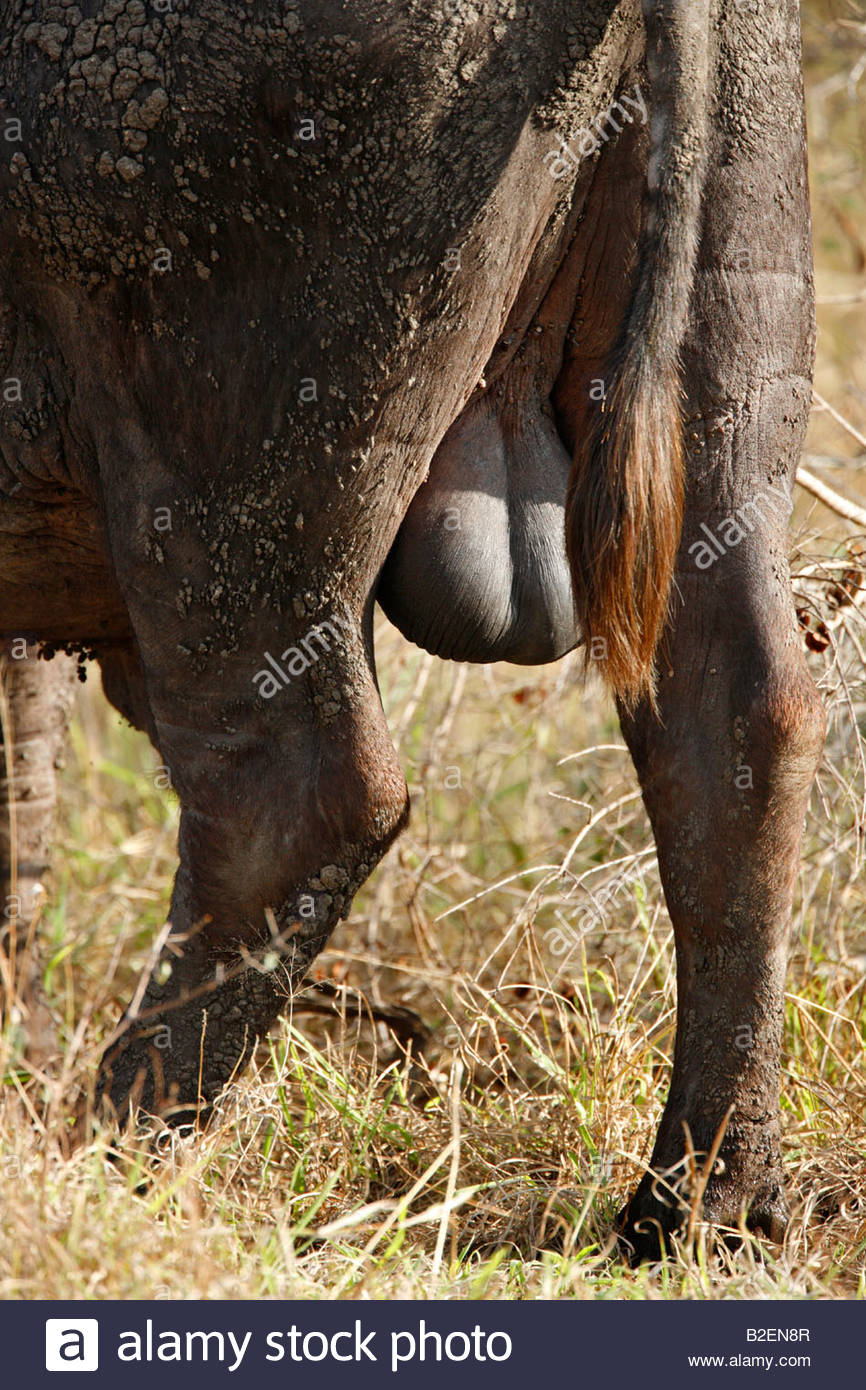buffalo: (23, 1, 850, 1286)
